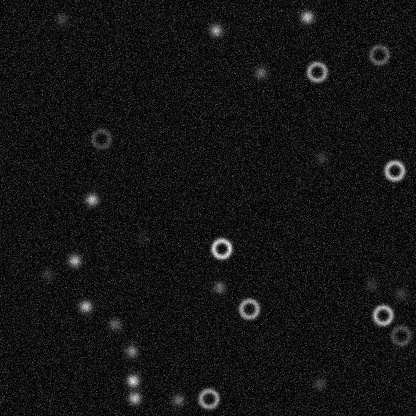Ring: (209, 236, 233, 260), (388, 323, 412, 347), (89, 126, 113, 150), (196, 386, 220, 410), (366, 42, 390, 66), (304, 59, 328, 83), (237, 296, 261, 320), (370, 303, 394, 327), (382, 158, 406, 182)
Spot: (136, 229, 152, 245), (363, 276, 379, 292), (392, 285, 408, 301), (169, 391, 185, 407), (252, 64, 268, 80), (311, 375, 327, 391), (39, 266, 55, 282), (123, 343, 139, 359), (124, 372, 140, 388), (66, 252, 82, 268), (77, 298, 93, 314), (106, 316, 122, 332), (126, 389, 142, 405), (298, 8, 314, 24), (53, 11, 69, 27), (313, 149, 329, 165), (211, 279, 227, 295), (207, 21, 223, 37), (83, 191, 99, 207)
